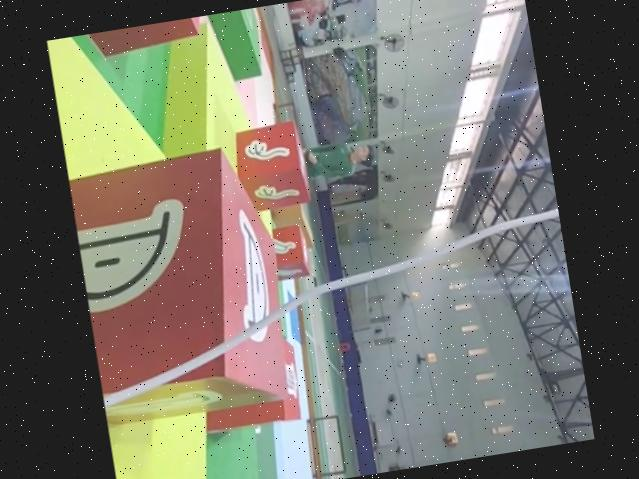R2 Real: (66, 141, 297, 427), (46, 15, 209, 65), (228, 120, 309, 214), (257, 221, 312, 282)
